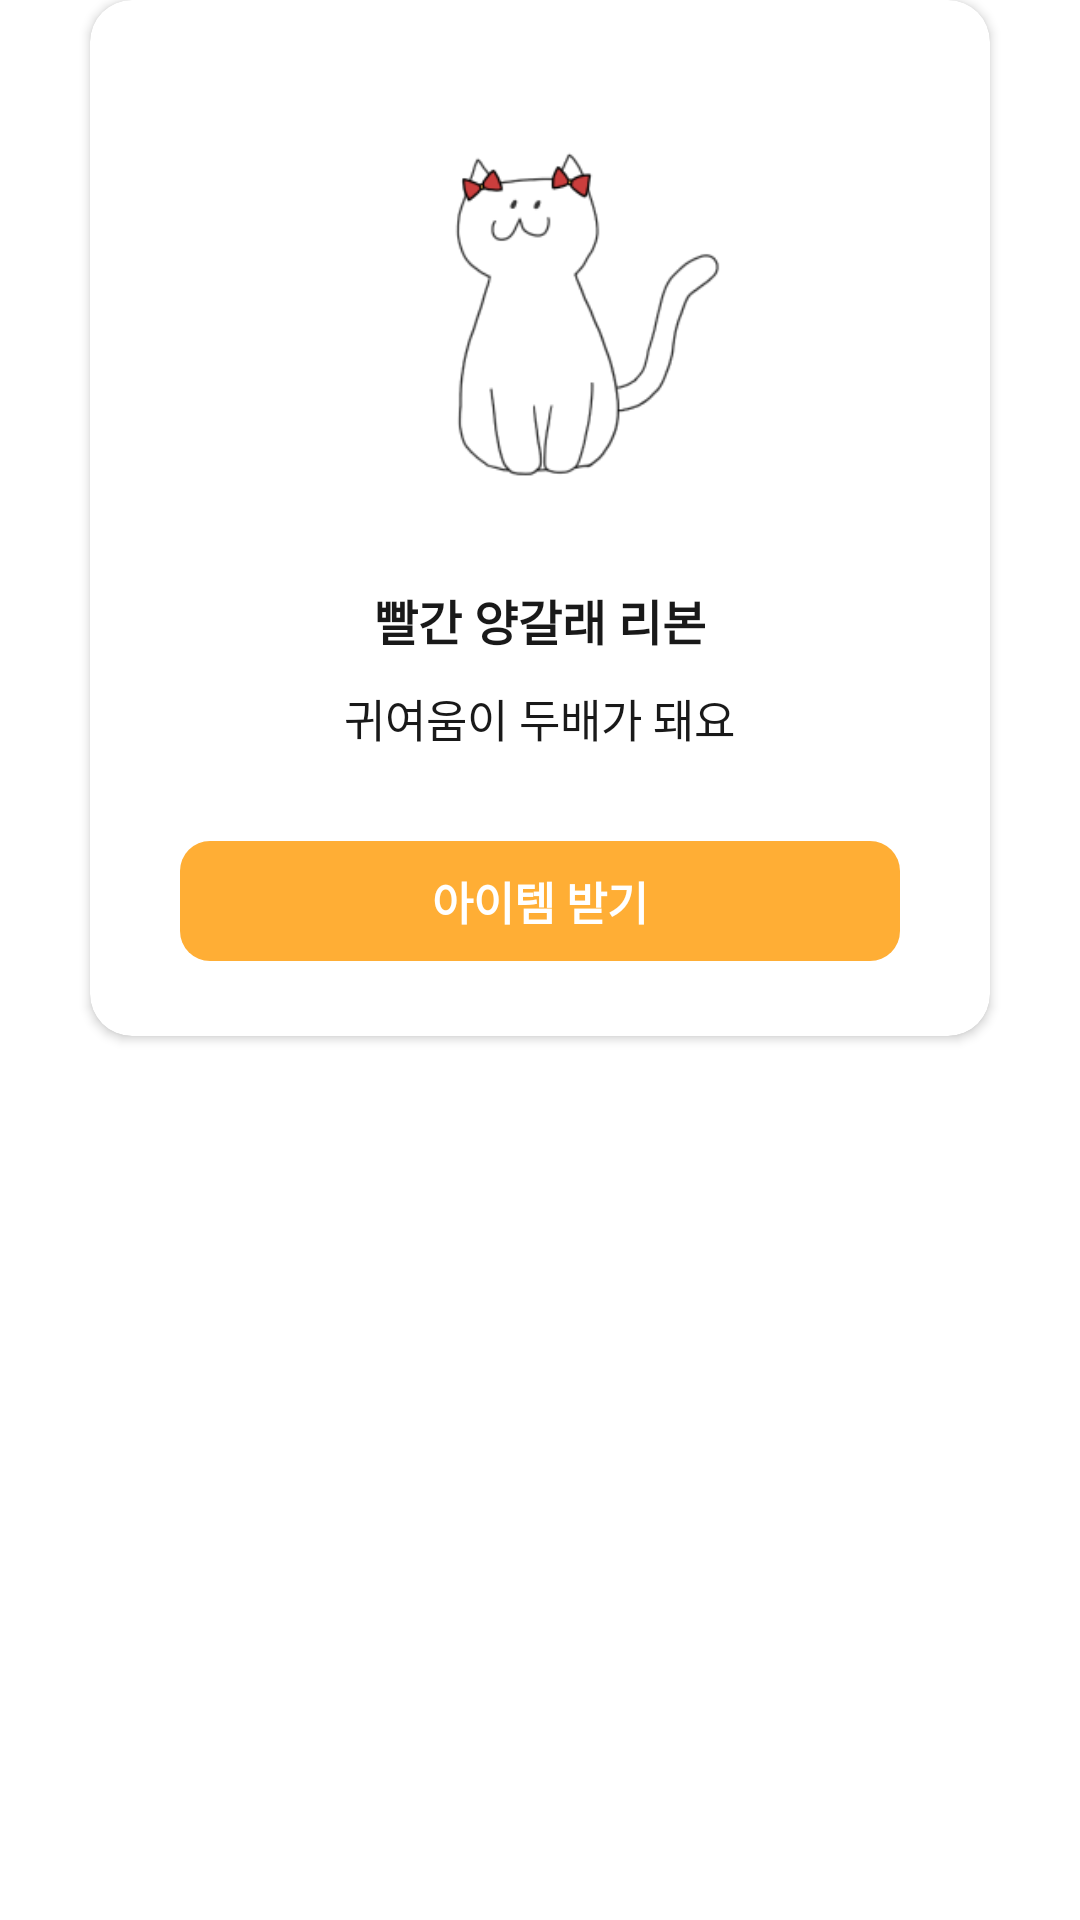

Point at icon controls on the screen. Image size 1080px×1920px, points as (x=x, y=y).
cat snowwhite: (x=587, y=314)
